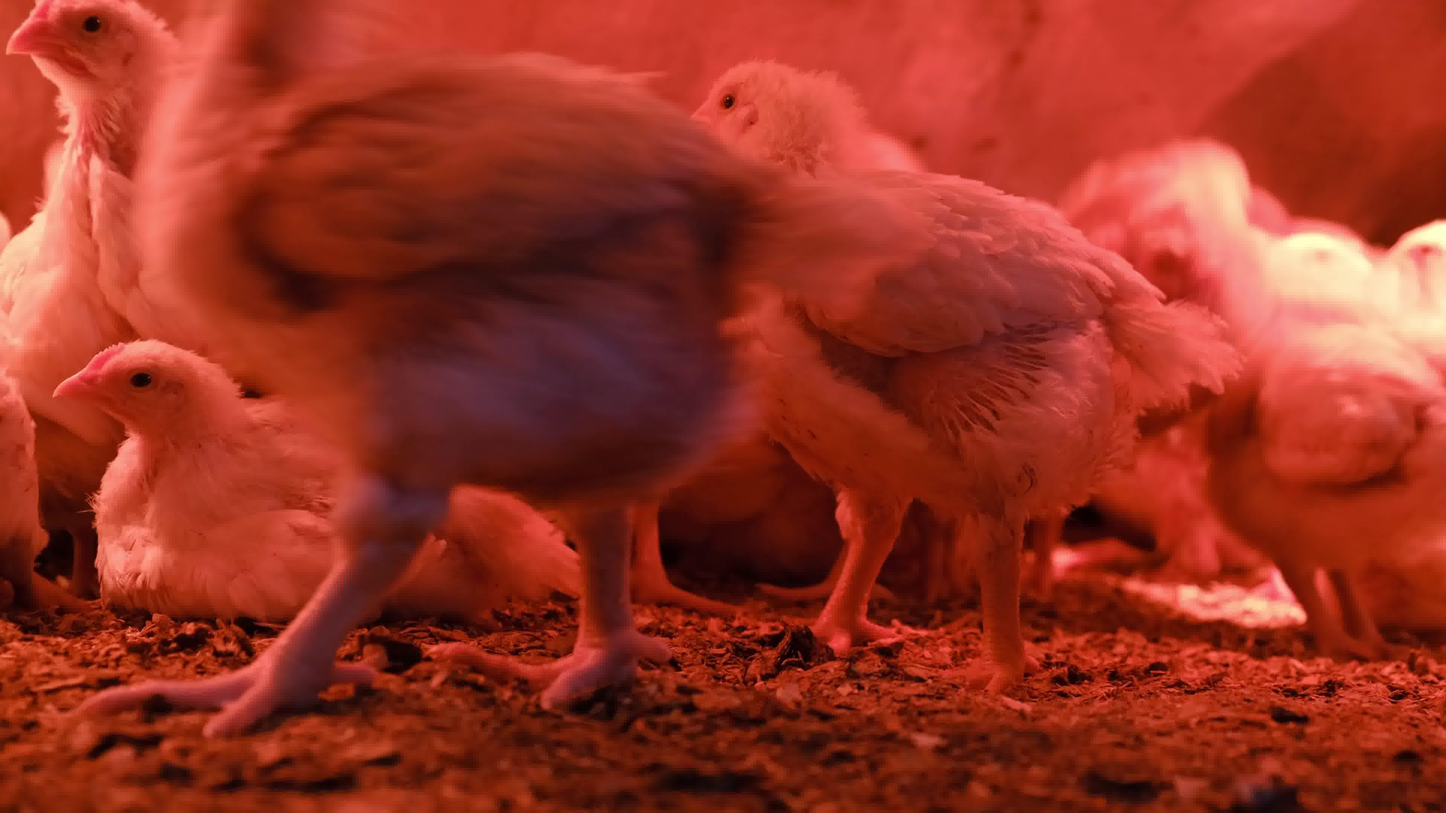AbNormal: (55, 337, 580, 668), (0, 290, 98, 685)
Normal: (143, 0, 691, 760), (693, 43, 1197, 685), (1218, 275, 1446, 661), (4, 0, 265, 329), (1086, 145, 1335, 376)
